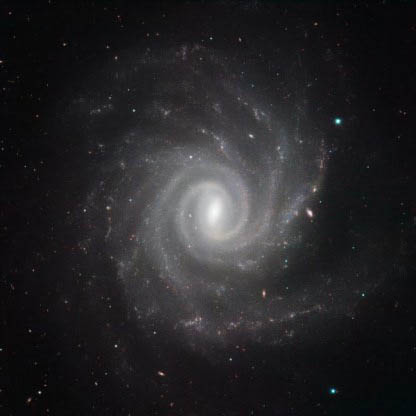NGC 1232: (54, 39, 378, 367)
